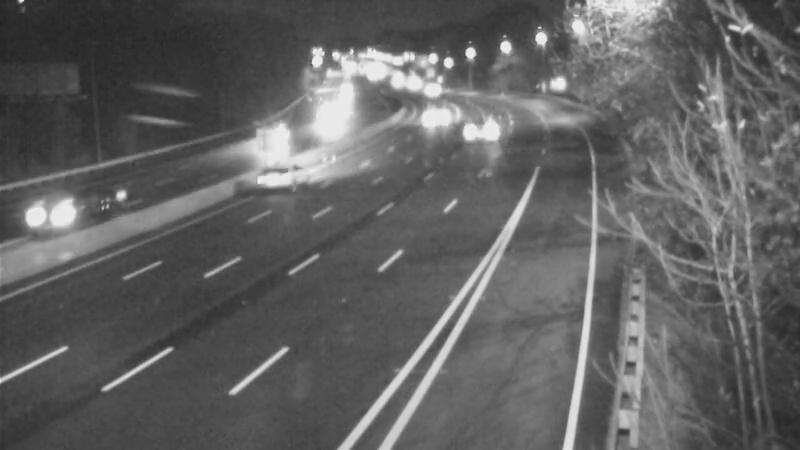vehicle: (256, 131, 336, 211), (19, 177, 99, 257), (406, 60, 456, 110), (415, 81, 465, 131), (453, 115, 503, 165), (243, 120, 293, 170), (300, 98, 350, 148)
